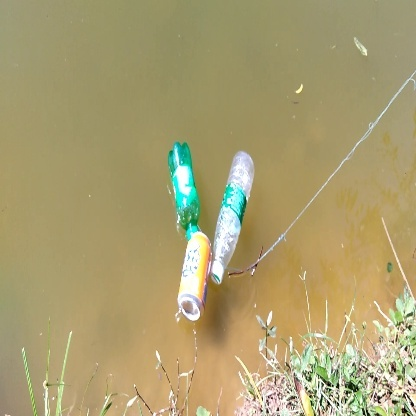bottle: (209, 150, 257, 287), (177, 234, 216, 320)
